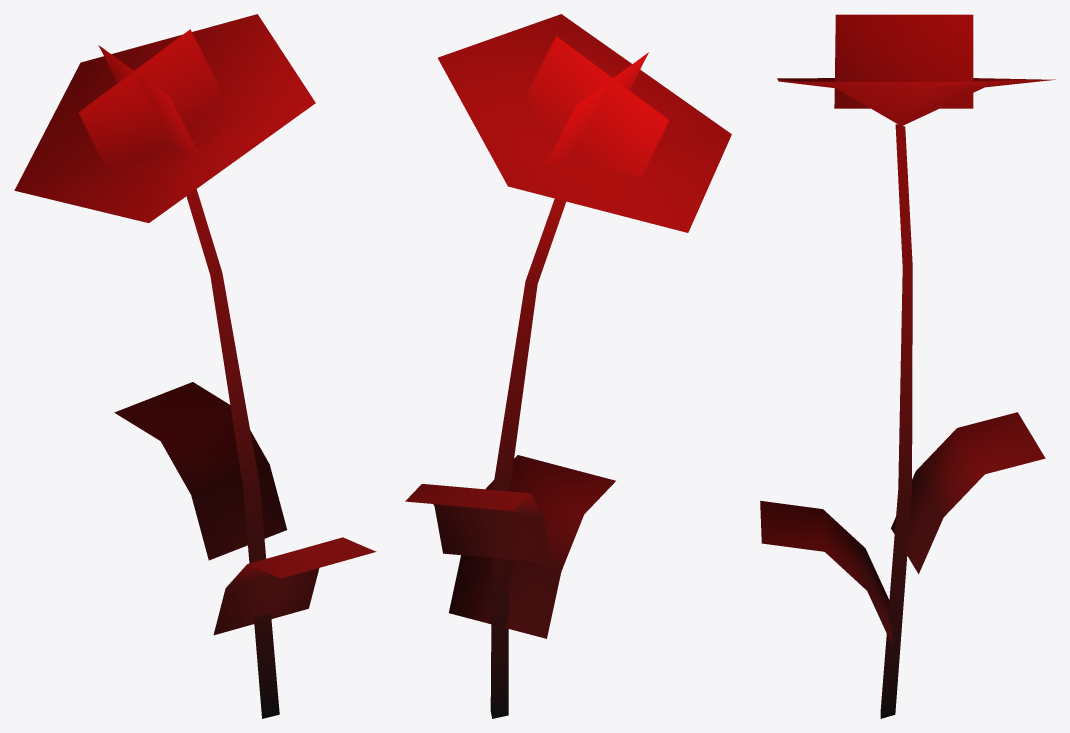
The model's file is SM_Flower5.fbx.
3 renders of one model, left to right at view 1: azimuth 30°, elevation 25°; view 2: azimuth 150°, elevation 25°; view 3: azimuth 270°, elevation 25°, orthographic. The views are drawn at different scales.
Parts seen in each view (by area): view 1: Flower5; view 2: Flower5; view 3: Flower5.
Boxes of the visible parts, x1,y1,x2,y2 form: Flower5: (14, 14, 376, 718); Flower5: (405, 14, 731, 718); Flower5: (760, 14, 1055, 718).
Size of the model in its own units: 0.146 by 0.3651 by 0.1463.
